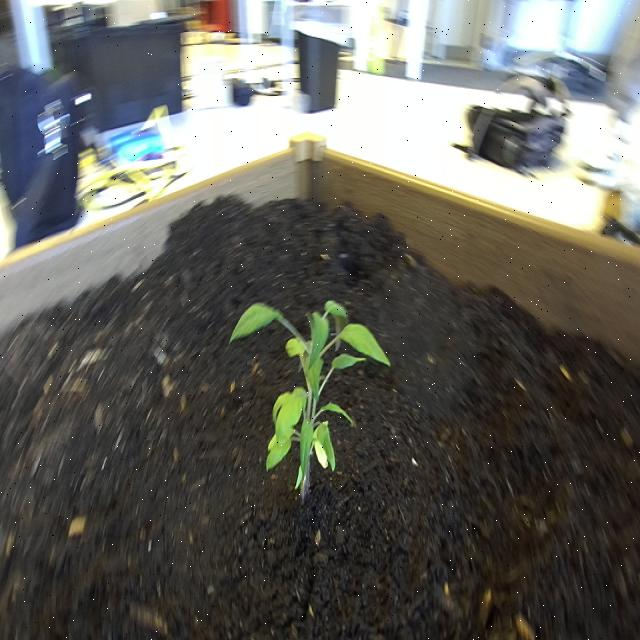Healthy: (227, 292, 396, 514)
